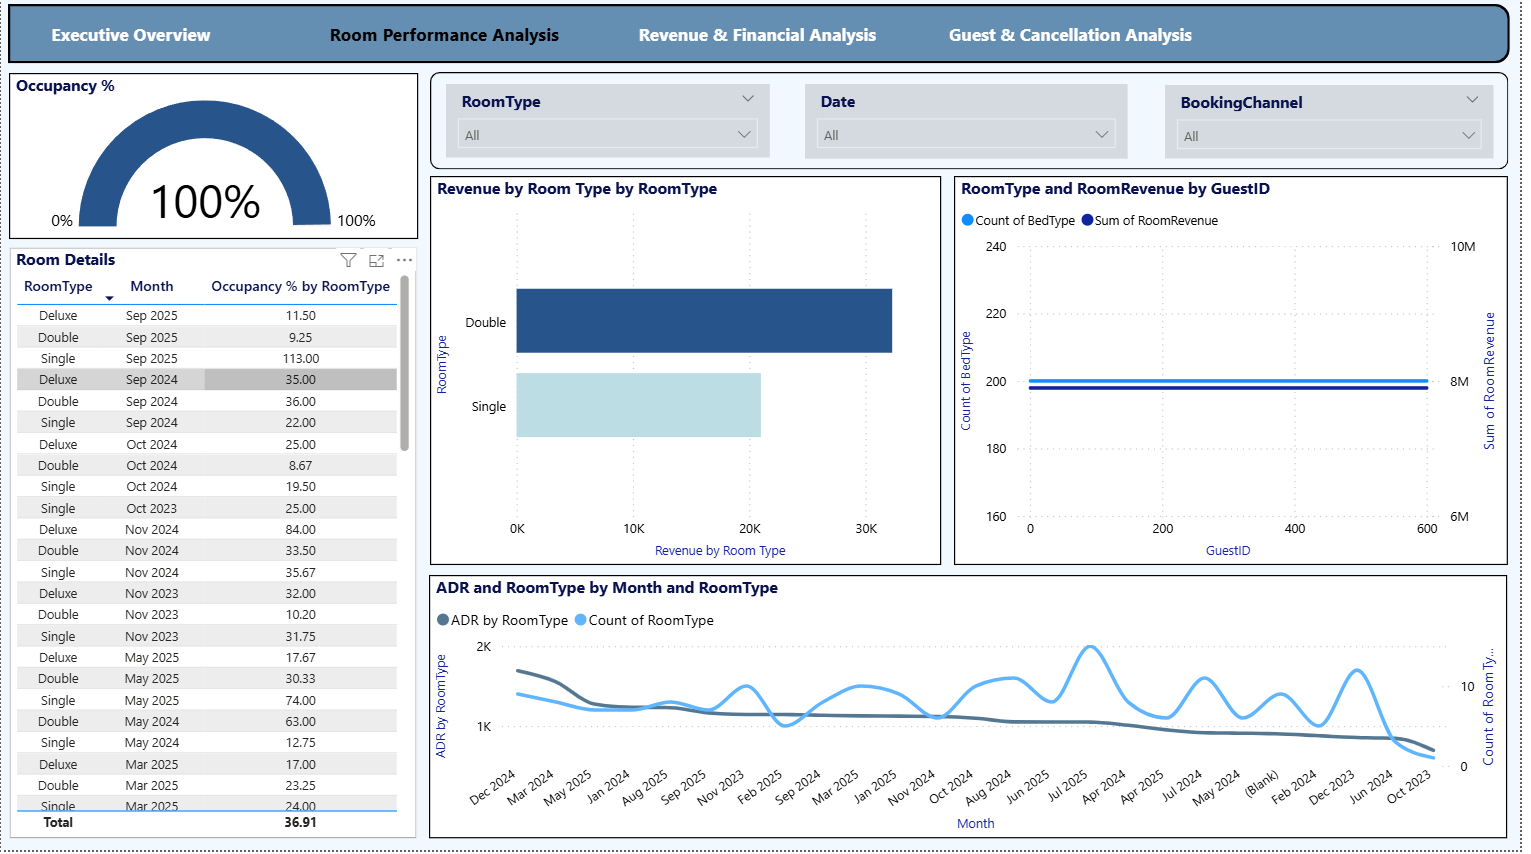

The page's visual inventory and layout, read from the dashboard file:
{"tool":"powerbi","page":{"name":"Room Performance Analysis","canvas":[1280,720],"ordinal":2},"visuals":[{"type":"shape","box":[361.6,63.9,909.2,82.1],"z":0},{"type":"tableEx","title":"Room Details","fields":{"Values":["Rooms.RoomType","DateTable.Month","Rooms.Occupancy % by RoomType"]},"box":[6.3,211.8,344,498.8],"z":1000},{"type":"clusteredBarChart","fields":{"Y":["Revenue.Revenue by Room Type"],"Category":["Rooms.RoomType"]},"box":[362,151.9,431.2,328.2],"z":2000},{"type":"gauge","fields":{"Y":["Rooms.Occupancy %"]},"box":[6.8,65,344.5,140.3],"z":3000},{"type":"lineChart","title":"ADR and RoomType by Month and RoomType","fields":{"Category":["DateTable.Month"],"Y":["Rooms.ADR by RoomType"],"Y2":["CountNonNull(Rooms.RoomType)"]},"box":[361.1,488.5,908.7,221.9],"z":4000},{"type":"slicer","fields":{"Values":["Rooms.RoomType"]},"box":[375.3,74.2,272.7,61.6],"z":5000},{"type":"slicer","fields":{"Values":["DateTable.Date"]},"box":[677.6,74.2,271.5,62.7],"z":6000},{"type":"slicer","fields":{"Values":["Bookings.BookingChannel"]},"box":[981.1,75.3,277.2,61.6],"z":7000},{"type":"shape","box":[6,6.9,1266.2,50],"z":8000},{"type":"pageNavigator","box":[6.8,6.8,1264,50.6],"z":9000},{"type":"lineChart","title":"RoomType and  RoomRevenue by GuestID","fields":{"Category":["Bookings.GuestID"],"Y":["CountNonNull(Rooms.BedType)"],"Y2":["Sum(Revenue.RoomRevenue)"]},"box":[803.3,151.9,467.4,328.2],"z":10000}]}

Visuals, with their boxes in screenshot pixels (x1, y1, x2, y2), scaled from the page's 1280x720 canvas onto the 1531x854 screenshot:
shape: [433,76,1520,173]
"Room Details" tableEx: [8,251,419,843]
clusteredBarChart - Revenue.Revenue by Room Type x Rooms.RoomType: [433,180,949,569]
gauge - Rooms.Occupancy %: [8,77,420,244]
"ADR and RoomType by Month and RoomType" lineChart: [432,579,1519,843]
slicer - Rooms.RoomType: [449,88,775,161]
slicer - DateTable.Date: [810,88,1135,162]
slicer - Bookings.BookingChannel: [1173,89,1505,162]
shape: [7,8,1522,67]
pageNavigator: [8,8,1520,68]
"RoomType and  RoomRevenue by GuestID" lineChart: [961,180,1520,569]
